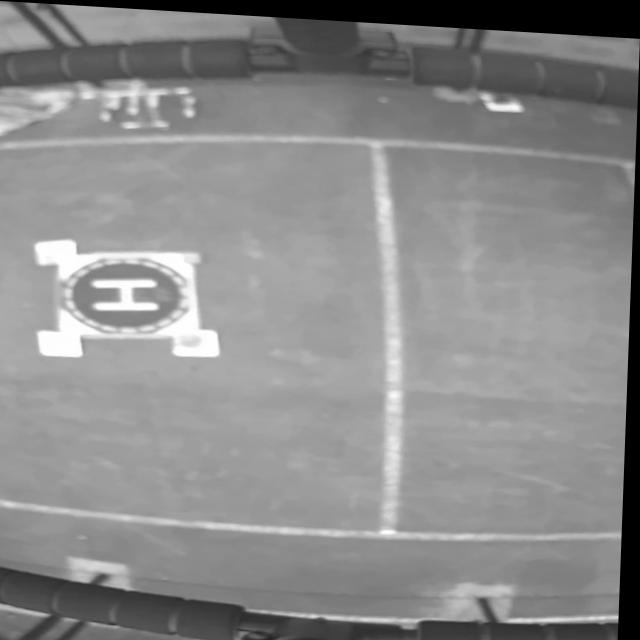Helipad: (93, 276, 162, 309)
